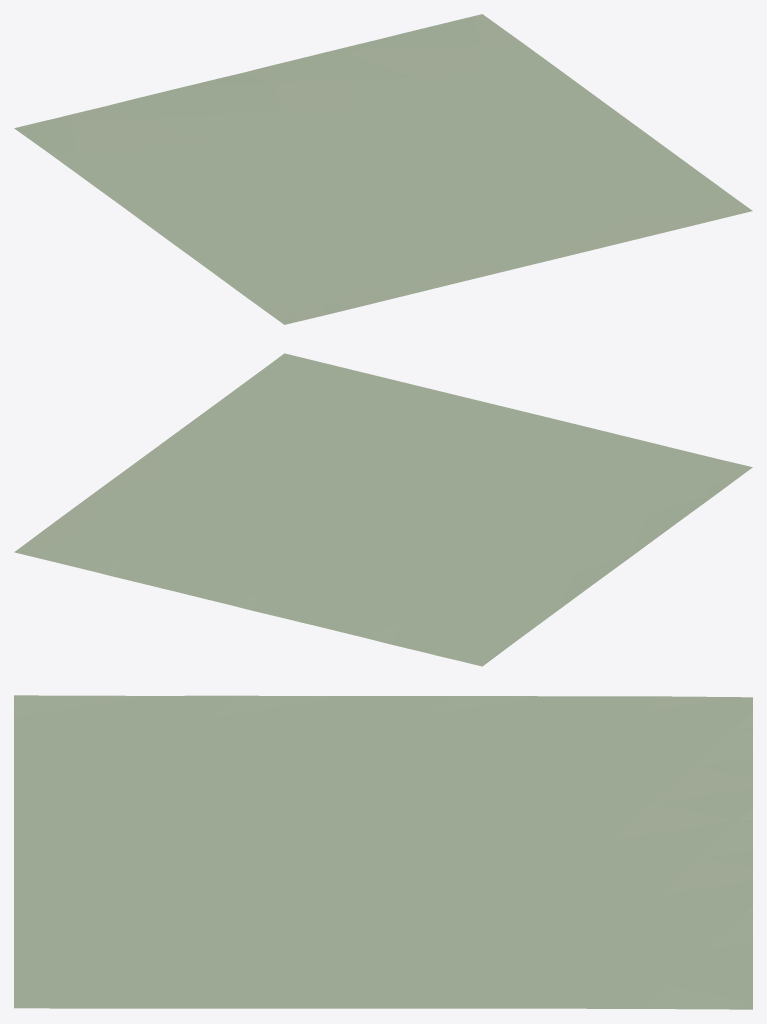
The model's file is SM_MPRR_Terrain_-1_1.fbx.
3 renders of one model, top to bottom at view 1: azimuth 30°, elevation 25°; view 2: azimuth 150°, elevation 25°; view 3: azimuth 270°, elevation 25°, orthographic. The views are drawn at different scales.
Parts seen in each view (by area): view 1: SM_MPRR_Terrain_-1_1; view 2: SM_MPRR_Terrain_-1_1; view 3: SM_MPRR_Terrain_-1_1.
Boxes of the visible parts, box(x1,y1,x2,y2) form: SM_MPRR_Terrain_-1_1: box(14, 14, 752, 324); SM_MPRR_Terrain_-1_1: box(14, 353, 752, 666); SM_MPRR_Terrain_-1_1: box(14, 695, 752, 1009).
Bounding box in the file's own units: 15000 × 15000 × 50.35.
